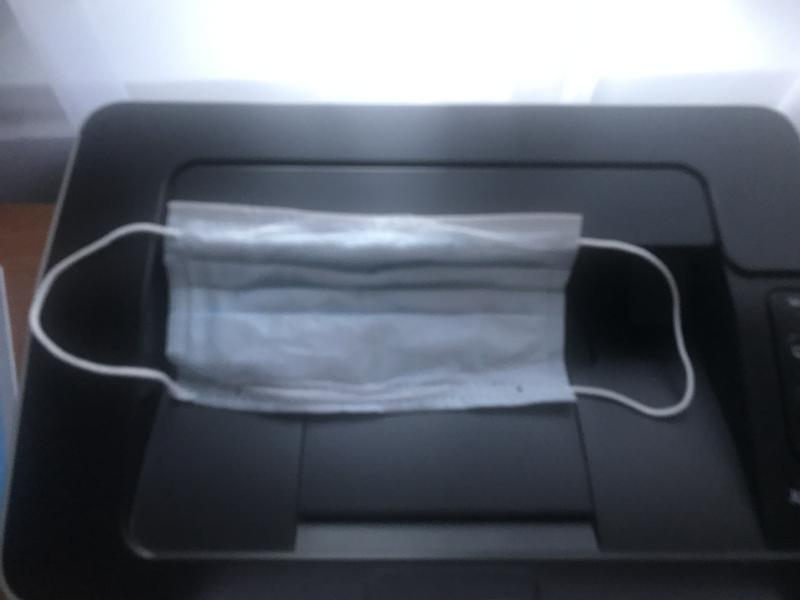medical_mask: (28, 200, 698, 421)
